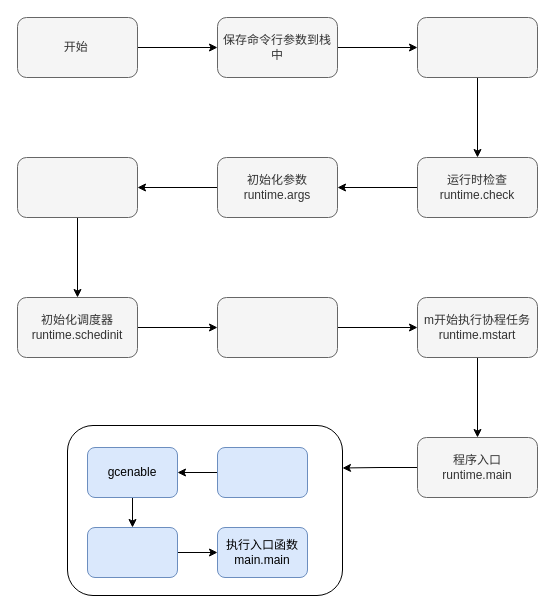
Image size: 555x613. Some labels were removed from this diagram. The centre of each missing label's shape, as x and y in pixels:
"runtime.init" goes at (x=262, y=472).
"创建协程 runtime.newproc" goes at (x=277, y=327).
"初始化go栈" goes at (x=477, y=47).
"初始化操作系统设置 runtime.osinit" goes at (x=77, y=187).
"用户包 init" goes at (x=132, y=552).
